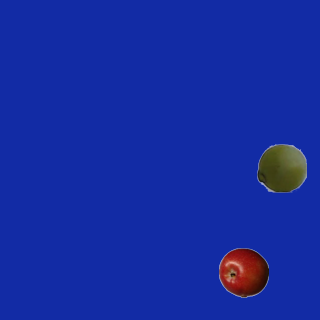Apple Braeburn: (218, 247, 268, 297)
Grape White 4: (256, 142, 306, 192)
